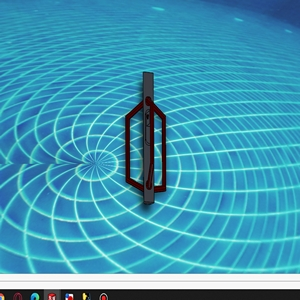submarine: (125, 69, 176, 203)
